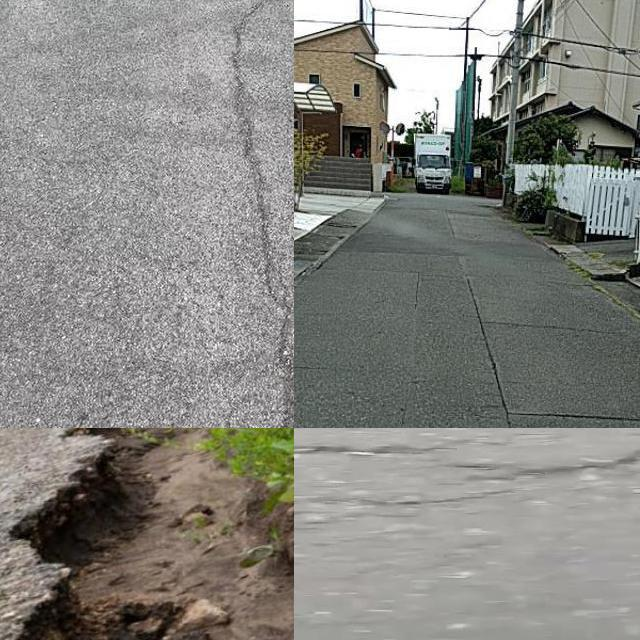Melintang: (393, 442, 640, 488), (491, 400, 640, 428)
Memanjang: (212, 0, 294, 428), (455, 252, 531, 428)
Pinggir: (0, 428, 171, 640)
